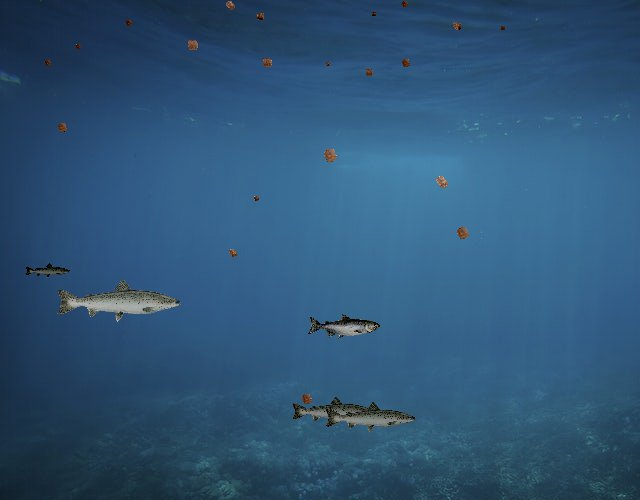Fish: (54, 277, 183, 323), (323, 401, 417, 435), (290, 395, 376, 426), (308, 314, 381, 340), (24, 262, 71, 279)
Pellet: (428, 169, 455, 196), (450, 220, 476, 246), (181, 33, 204, 56), (296, 388, 318, 410), (224, 244, 242, 262), (122, 16, 136, 30), (250, 193, 262, 205)
